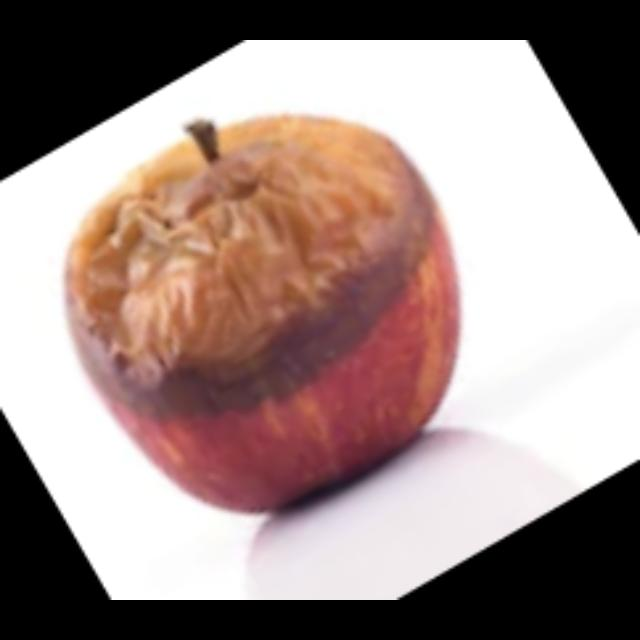Apel Tidak Segar: (59, 115, 468, 518)
